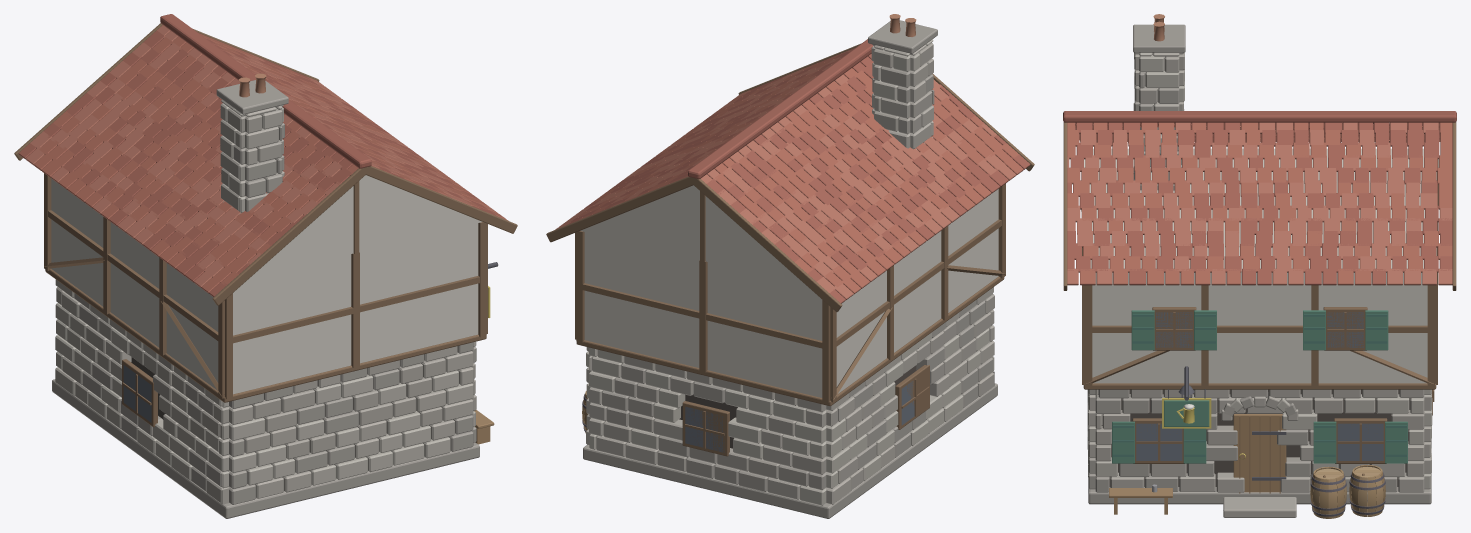
The model's file is tavern.glb.
3 renders of one model, left to right at view 1: azimuth 30°, elevation 25°; view 2: azimuth 150°, elevation 25°; view 3: azimuth 270°, elevation 25°, orthographic. The views are drawn at different scales.
Parts seen in each view (by area): view 1: tavern; view 2: tavern; view 3: tavern.
Part boxes in pixels (x1,y1,x2,y2): tavern: [14, 14, 517, 518]; tavern: [546, 14, 1034, 518]; tavern: [1063, 14, 1456, 518].
Size of the model in its own units: 8.56 by 9.47 by 8.6.
